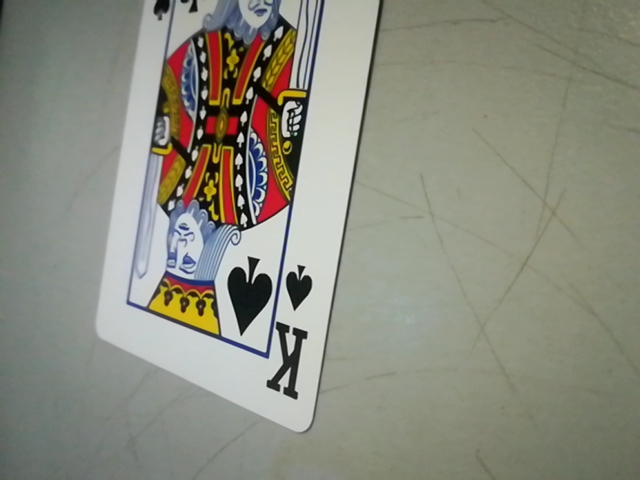ht k: (268, 249, 320, 419)
